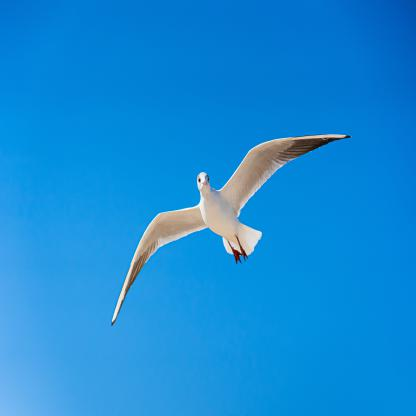bird: (110, 135, 352, 329)
